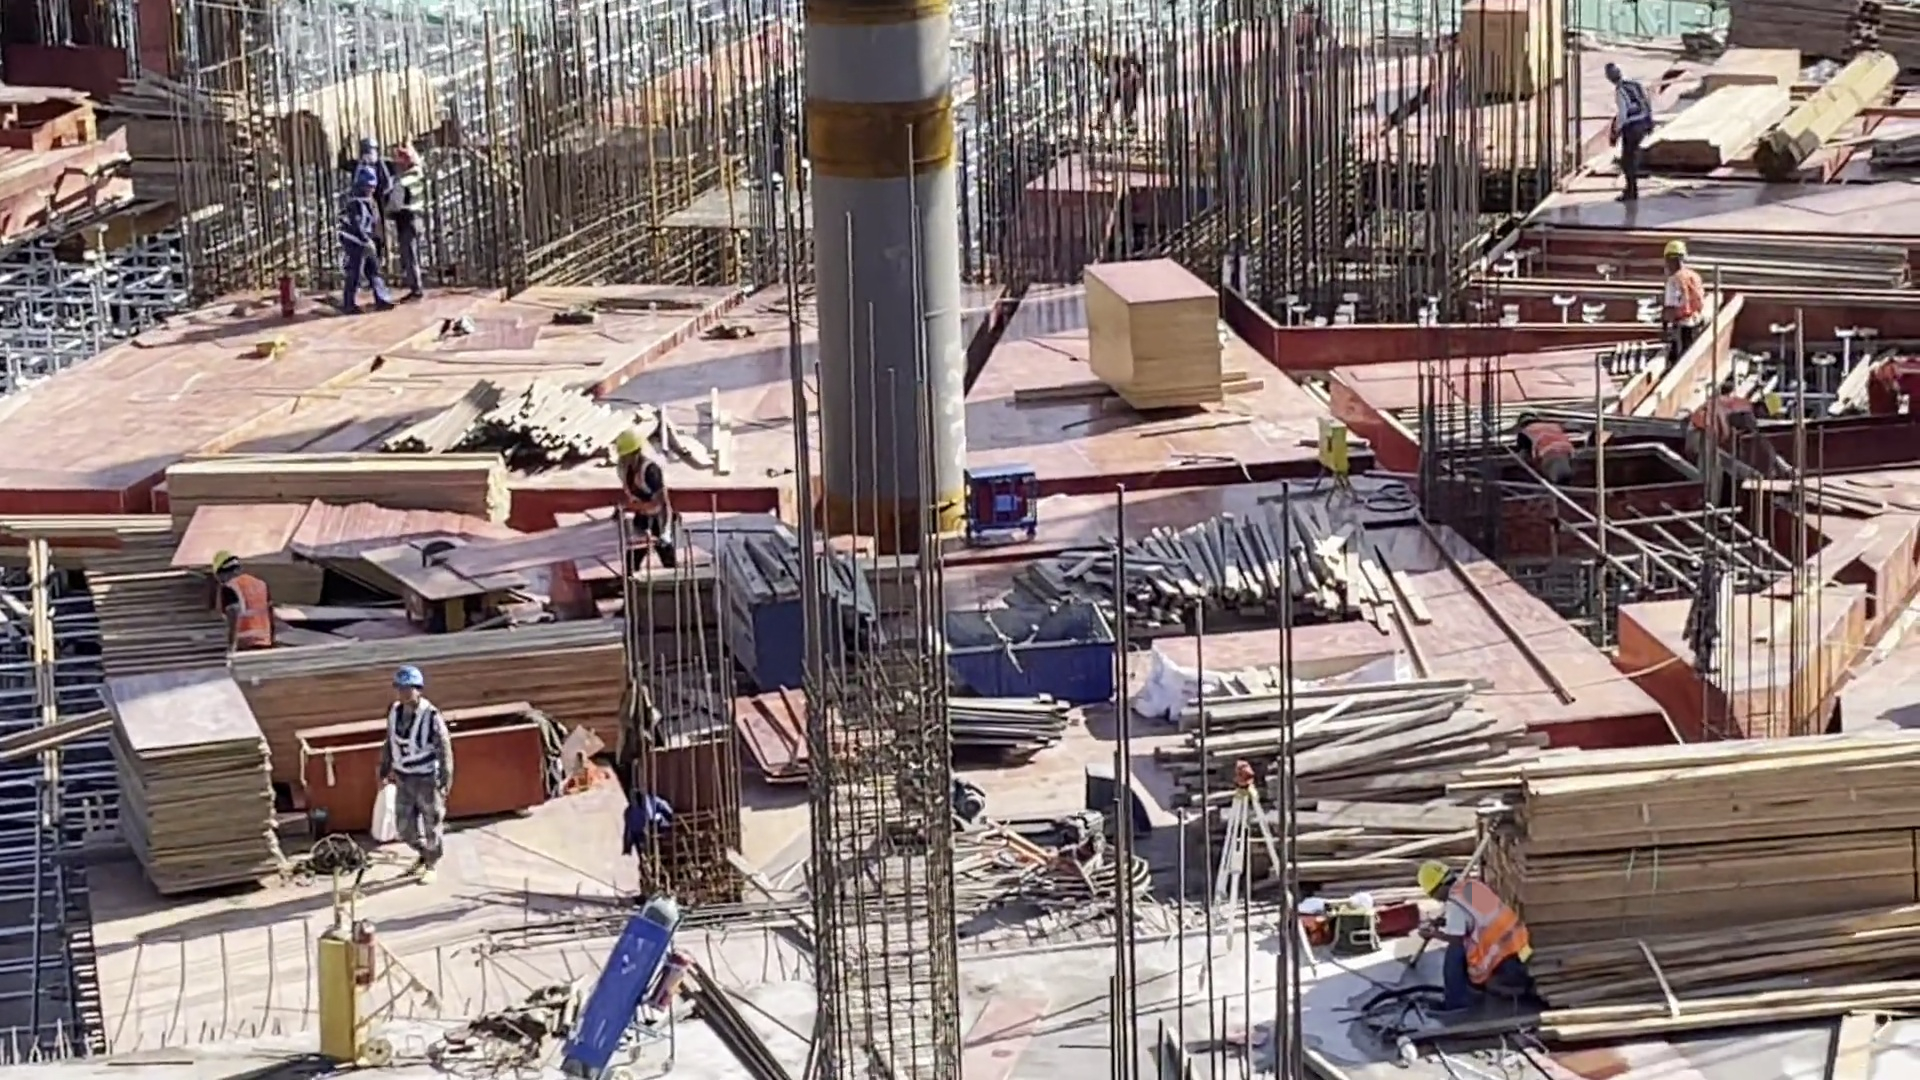board: (105, 673, 283, 887), (1080, 258, 1224, 413)
cutter: (361, 532, 528, 632), (1, 83, 96, 140)
ebox: (1307, 410, 1358, 509)
helmet: (1417, 859, 1453, 899), (611, 428, 643, 461), (210, 549, 240, 576), (392, 147, 419, 173), (392, 664, 422, 687), (352, 169, 376, 188), (356, 137, 379, 155), (1664, 239, 1686, 256), (1604, 59, 1622, 78), (1517, 407, 1537, 420)
hopper: (928, 596, 1116, 709)
person: (1416, 858, 1535, 1012), (378, 664, 454, 884), (615, 430, 678, 574), (1603, 61, 1655, 205), (340, 167, 392, 311), (211, 551, 277, 650), (1661, 240, 1707, 378), (388, 144, 425, 298), (1092, 50, 1147, 134), (1516, 410, 1577, 484), (1288, 1, 1332, 87), (338, 139, 386, 169)
vest: (1442, 878, 1533, 981), (385, 702, 437, 777), (219, 577, 273, 648), (622, 463, 669, 533), (340, 201, 383, 252), (1664, 270, 1702, 323), (1617, 83, 1652, 131), (1525, 422, 1569, 459), (392, 174, 424, 222)
wood: (1496, 728, 1920, 1029), (1170, 683, 1517, 878), (1033, 508, 1433, 638), (384, 381, 661, 468), (122, 80, 278, 216), (172, 455, 510, 513), (266, 68, 456, 155)
